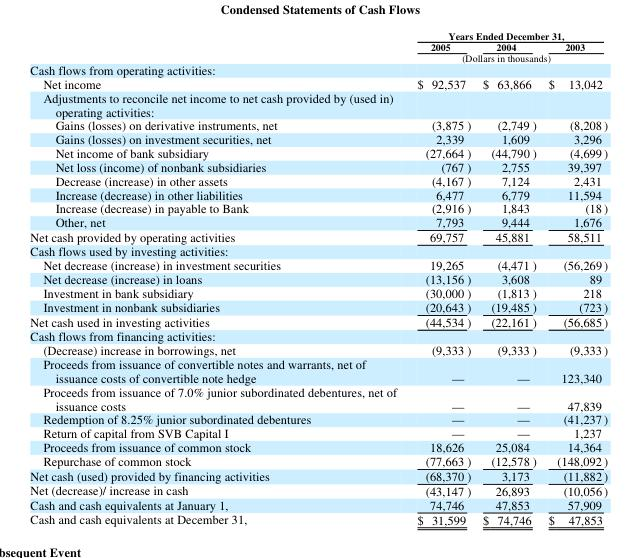table: (29, 28, 607, 527)
table column: (29, 28, 406, 527), (406, 28, 476, 527), (541, 28, 607, 527), (476, 28, 541, 527)
table column header: (29, 28, 607, 62)
table projected row header: (29, 90, 607, 117), (29, 62, 607, 76), (29, 243, 607, 257), (29, 328, 607, 342)
table row: (29, 383, 607, 411), (29, 90, 607, 117), (29, 356, 607, 383), (29, 511, 607, 527), (29, 228, 607, 243), (29, 313, 607, 328), (29, 467, 607, 482), (29, 482, 607, 497), (29, 62, 607, 76), (29, 76, 607, 90), (29, 117, 607, 131), (29, 131, 607, 145), (29, 145, 607, 159), (29, 159, 607, 173), (29, 186, 607, 200), (29, 200, 607, 214), (29, 214, 607, 228), (29, 243, 607, 257), (29, 257, 607, 271), (29, 271, 607, 285), (29, 285, 607, 299), (29, 299, 607, 313), (29, 328, 607, 342), (29, 342, 607, 356), (29, 411, 607, 425), (29, 425, 607, 439), (29, 439, 607, 453), (29, 453, 607, 467), (29, 497, 607, 511), (29, 28, 607, 41), (29, 173, 607, 186), (29, 41, 607, 52), (29, 52, 607, 62)
table spanning cell: (406, 28, 607, 41), (406, 52, 607, 62)
